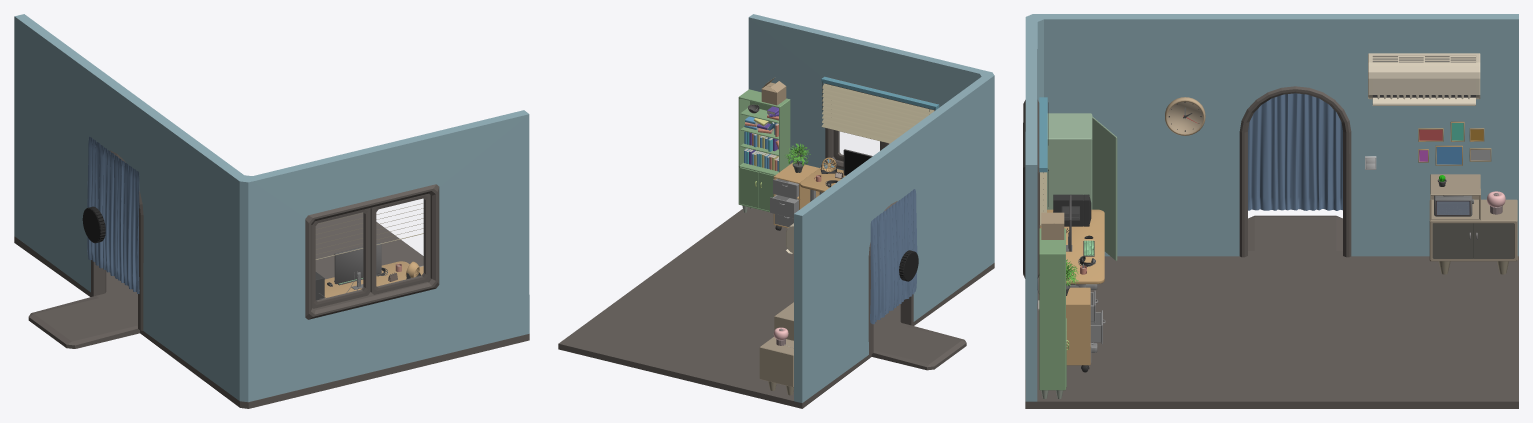
The model's file is Room.glb.
3 views of the same model, side by side, from view 1: azimuth 30°, elevation 25°; view 2: azimuth 150°, elevation 25°; view 3: azimuth 270°, elevation 25° (orthographic). The views are drawn at different scales.
Parts seen in each view (by area): view 1: 墙壁, 地板, 门帘, 窗户外框, 窗户左, 窗户右, 门, 立方体.072, 平面.002, 柱体.019, Venetian_slats; view 2: 墙壁, 地板, 门帘, Venetian_slats, 立方体.013, 立方体, VenetianFrame, 立方体.012, 门, 立方体.018, 平面.002, 环体.006 (+6 smaller); view 3: 墙壁, 地板, 门帘, 立方体.060, 立方体.013, 立方体.002, 门, 立方体, 立方体.003, 平面.002, 立方体.012, 平面.001 (+11 smaller).
Part boxes in pixels (x1,y1,x2,y2): 墙壁: (14,14,529,402); 地板: (14,212,529,408); 门帘: (87,136,139,293); 窗户外框: (305,184,439,319); 窗户左: (370,193,430,294); 窗户右: (312,208,370,308); 门: (91,150,143,330); 立方体.072: (334,242,381,284); 平面.002: (324,261,422,298); 柱体.019: (82,206,105,243); Venetian_slats: (316,203,423,254); 墙壁: (748,14,994,402); 地板: (558,207,994,408); 门帘: (870,189,917,324); Venetian_slats: (822,83,934,140); 立方体.013: (738,89,790,212); 立方体: (759,302,793,387); VenetianFrame: (821,76,939,110); 立方体.012: (773,162,819,227); 门: (868,201,913,354); 立方体.018: (739,167,758,208); 平面.002: (800,167,845,192); 环体.006: (770,195,798,218); 墙壁: (1025,14,1518,401); 地板: (1025,215,1518,408); 门帘: (1248,93,1342,210); 立方体.060: (1368,53,1480,99); 立方体.013: (1039,228,1065,390); 立方体.002: (1047,113,1092,209); 门: (1239,86,1351,257); 立方体: (1429,174,1517,261); 立方体.003: (1092,116,1117,260); 平面.002: (1040,209,1104,284); 立方体.012: (1066,287,1090,365); 平面.001: (1473,223,1514,258).
Bounding box in the file's own units: 5.57 × 3.38 × 6.22.
